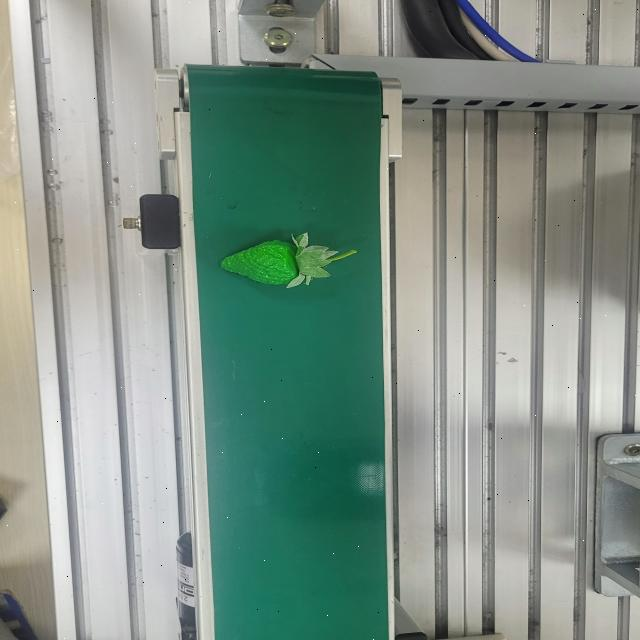Small Unripe Strawberry: (218, 230, 360, 290)
